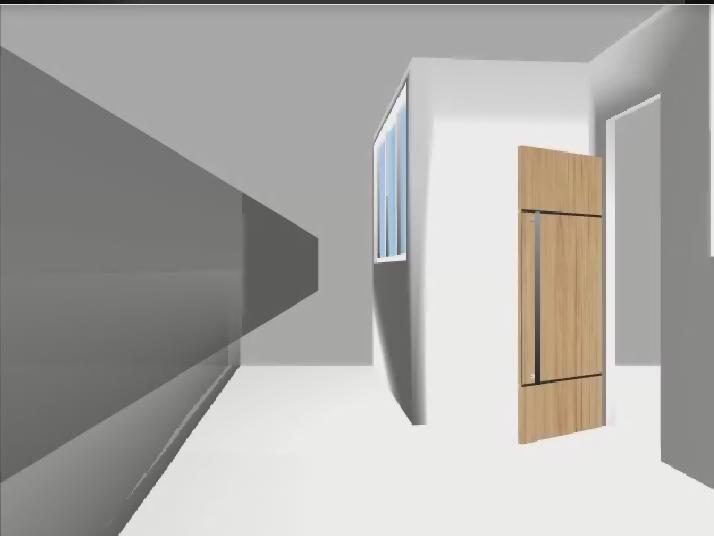door: (519, 146, 607, 444)
